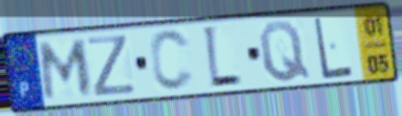C: (147, 28, 196, 94)
L: (200, 23, 244, 92), (311, 15, 355, 82)
M: (38, 37, 94, 103)
Q: (257, 19, 314, 85)
Z: (85, 33, 140, 100)
